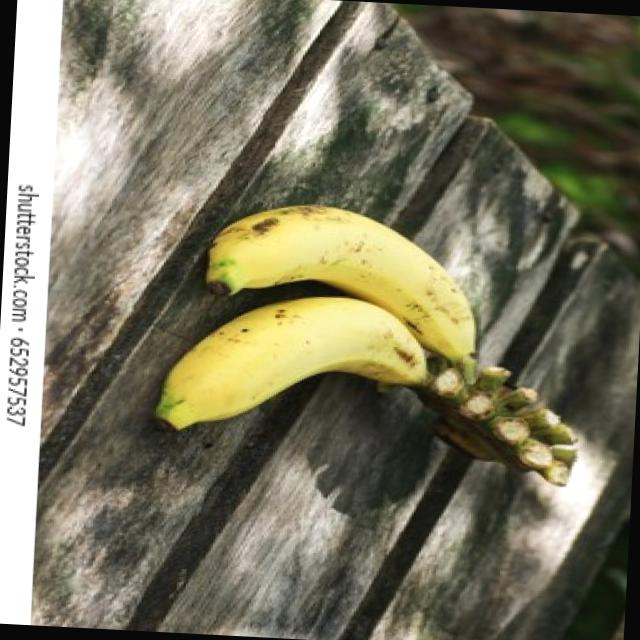Platano: (163, 197, 493, 447)
